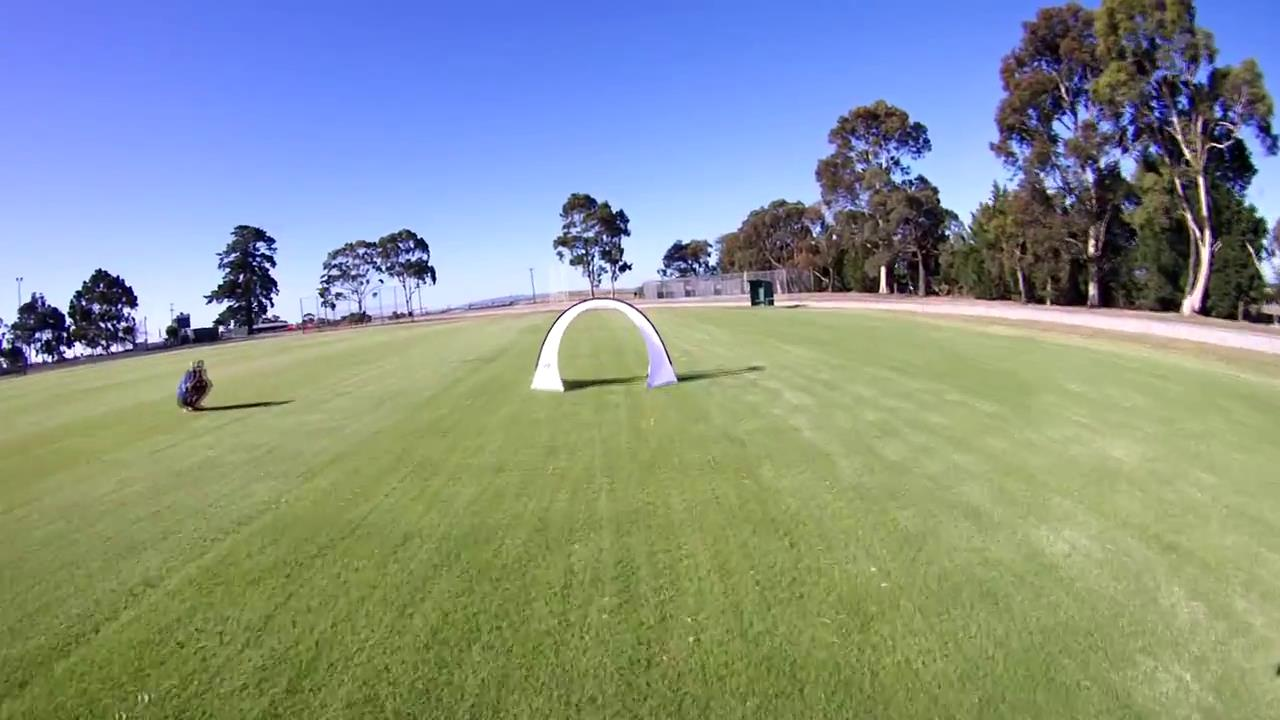gate: (528, 296, 685, 394)
